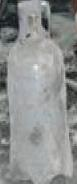cylinder: (1, 0, 77, 184)
